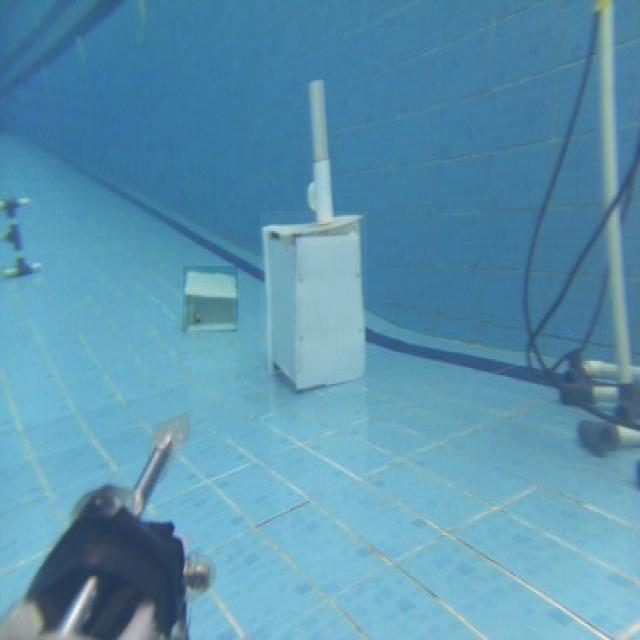Cube: (260, 211, 367, 393)
Cuboid: (183, 266, 238, 332)
